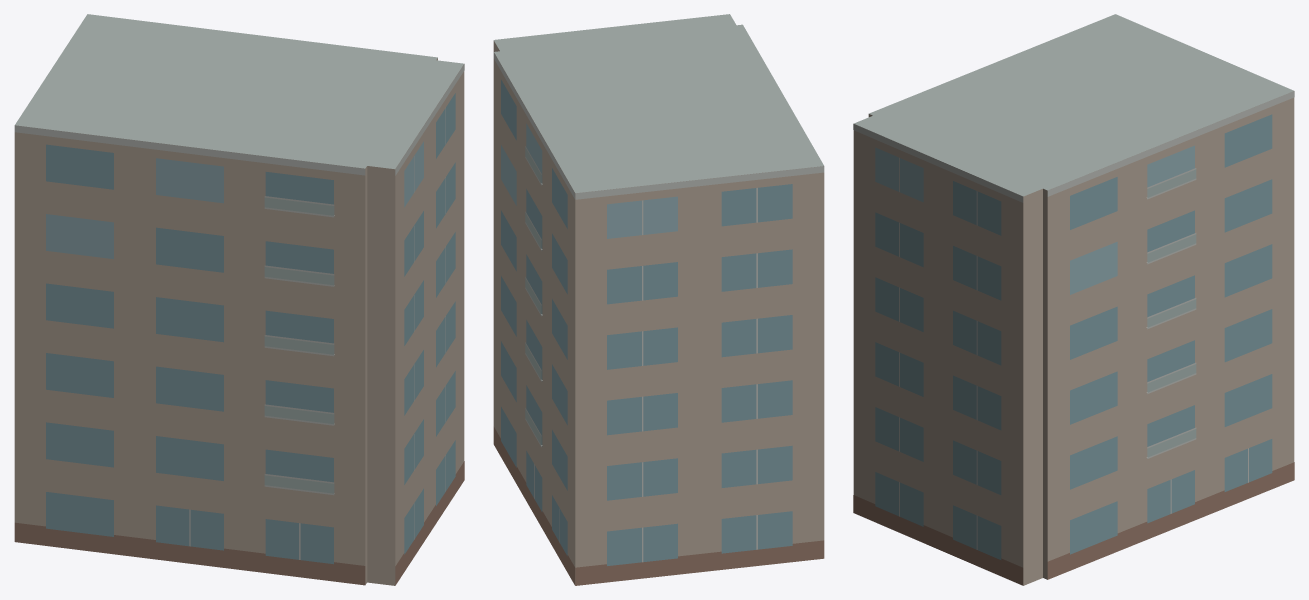
Rendered from survey-upis-32892723.glb.
3 renders of one model, left to right at view 1: azimuth 30°, elevation 25°; view 2: azimuth 150°, elevation 25°; view 3: azimuth 270°, elevation 25°, orthographic. The views are drawn at different scales.
Visible parts, largest first — view 1: survey-upis-32892723.tmp; view 2: survey-upis-32892723.tmp; view 3: survey-upis-32892723.tmp.
Boxes of the visible parts, x1=… form: survey-upis-32892723.tmp: x1=14, y1=14, x2=464, y2=585; survey-upis-32892723.tmp: x1=493, y1=14, x2=824, y2=585; survey-upis-32892723.tmp: x1=853, y1=14, x2=1294, y2=585.
Bounding box in the file's own units: 14.74 × 14.65 × 15.04.
